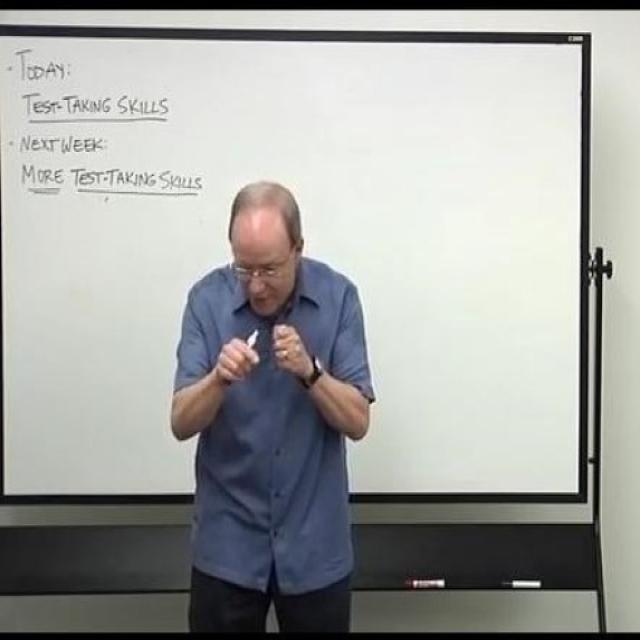Instructor: (160, 174, 368, 561)
White-board: (0, 31, 591, 505)
